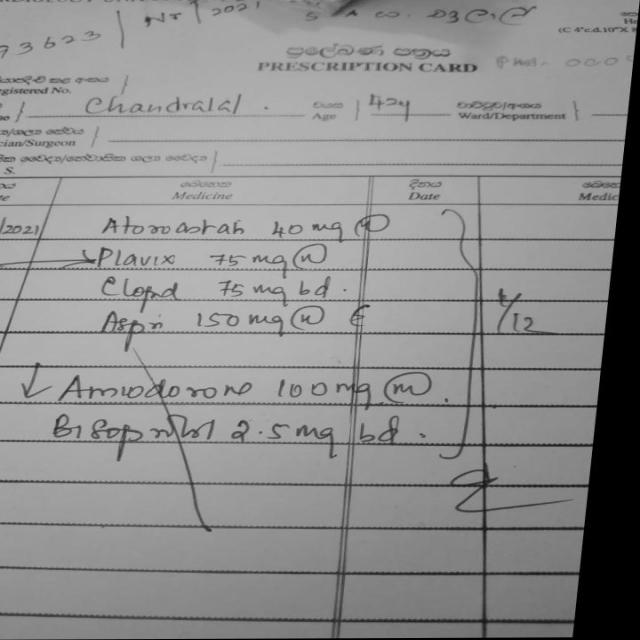Prescription: (63, 368, 446, 408), (59, 411, 414, 447), (102, 210, 399, 242), (102, 302, 334, 336), (100, 243, 346, 273), (105, 274, 339, 303)
